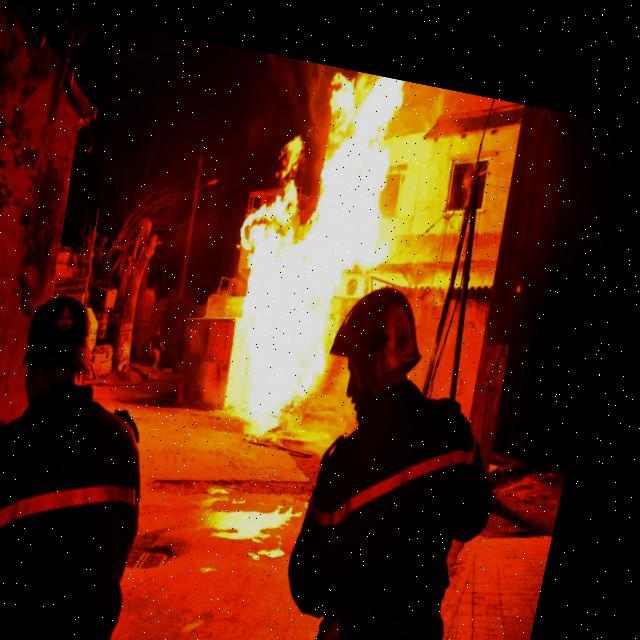Fire: (214, 52, 452, 432)
